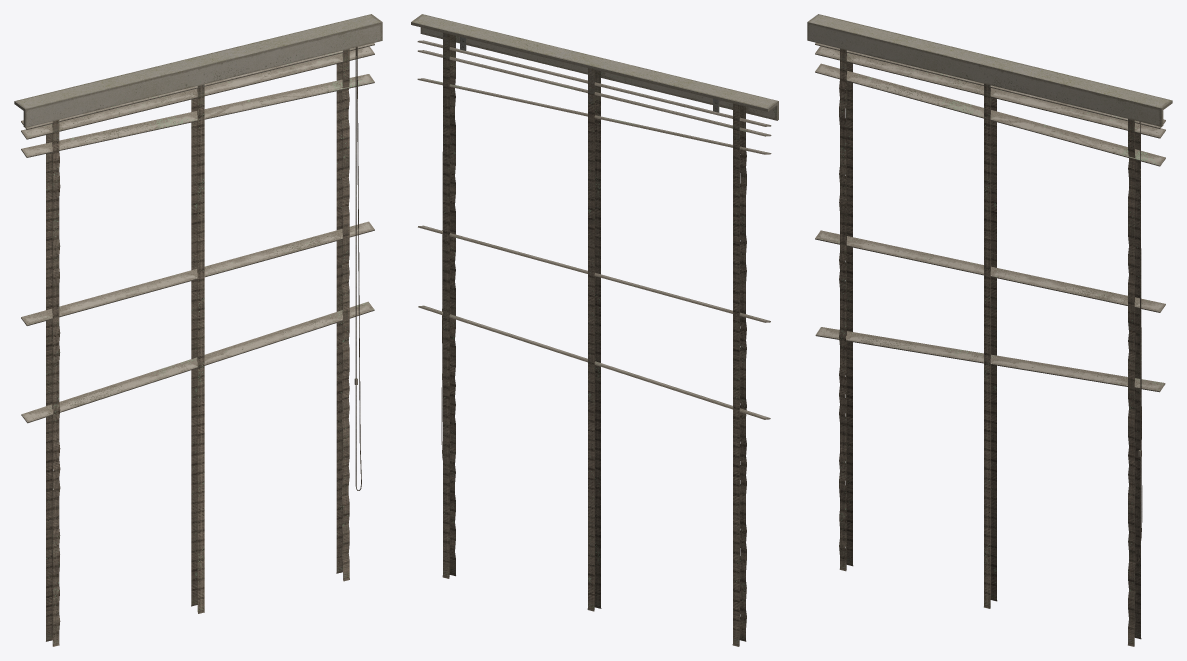
The model's file is JalousieF.fbx.
3 renders of one model, left to right at view 1: azimuth 30°, elevation 25°; view 2: azimuth 150°, elevation 25°; view 3: azimuth 330°, elevation 25°, orthographic.
Visible parts, largest first — view 1: JalousieF_LOD0; view 2: JalousieF_LOD0; view 3: JalousieF_LOD0.
Part boxes in pixels (x1=…): JalousieF_LOD0: x1=14, y1=14, x2=382, y2=646; JalousieF_LOD0: x1=411, y1=14, x2=778, y2=646; JalousieF_LOD0: x1=807, y1=14, x2=1172, y2=646.
Size of what is drawn, in the model's own units: 130 by 192 by 7.85.
